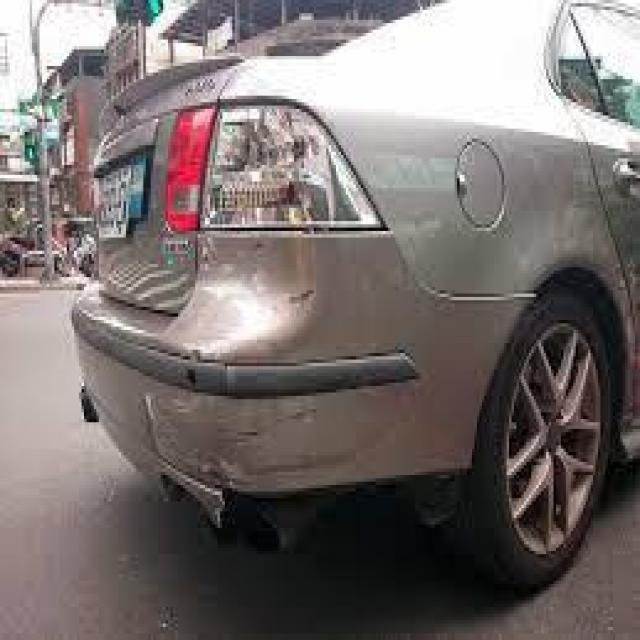damaged: (133, 353, 319, 525), (284, 280, 314, 310)
